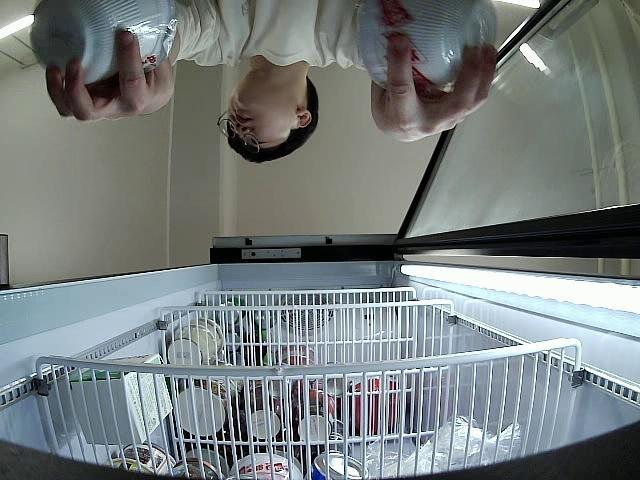09_yukGaeJang: (352, 0, 498, 91), (30, 0, 177, 85)
